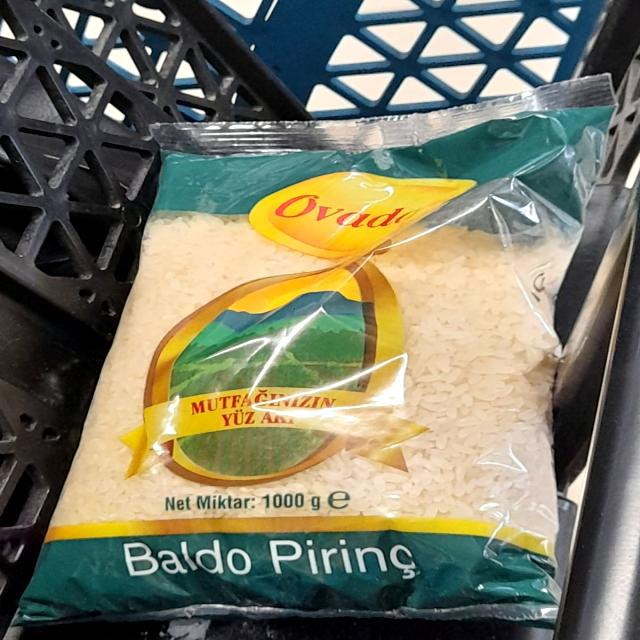rice: (109, 124, 548, 622)
